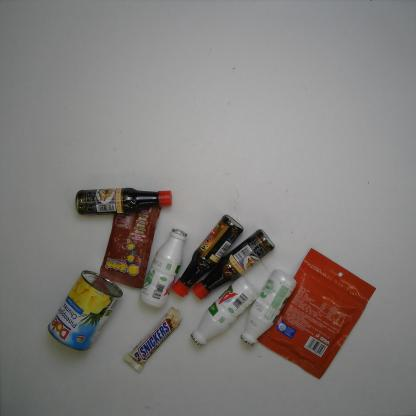Candy: (99, 205, 163, 290)
Canned Food: (46, 269, 124, 353)
Chocolate: (123, 307, 184, 372)
Dried Fruit: (255, 247, 378, 381)
Milk: (239, 268, 300, 347), (190, 275, 256, 348), (140, 222, 190, 309)
Seasoner: (192, 225, 278, 305), (171, 213, 245, 298), (73, 186, 174, 217)
